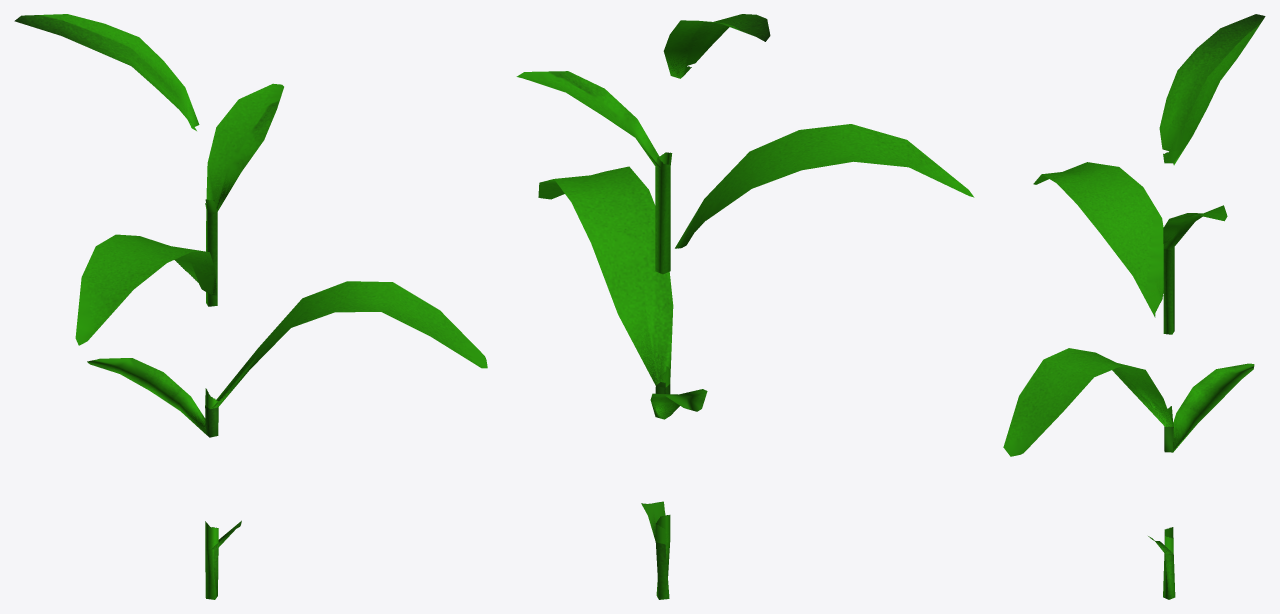
Rendered from corn_02.fbx.
3 renders of one model, left to right at view 1: azimuth 30°, elevation 25°; view 2: azimuth 150°, elevation 25°; view 3: azimuth 270°, elevation 25°, orthographic. The views are drawn at different scales.
Visible parts, largest first — view 1: Cube; view 2: Cube; view 3: Cube.
Boxes of the visible parts, left/top/right/bottom form: Cube: left=14, top=14, right=487, bottom=599; Cube: left=516, top=14, right=974, bottom=599; Cube: left=1003, top=14, right=1265, bottom=599.
Size of the model in its own units: 85.59 by 118 by 53.83.
Materials: 1 (1 with a texture image).
